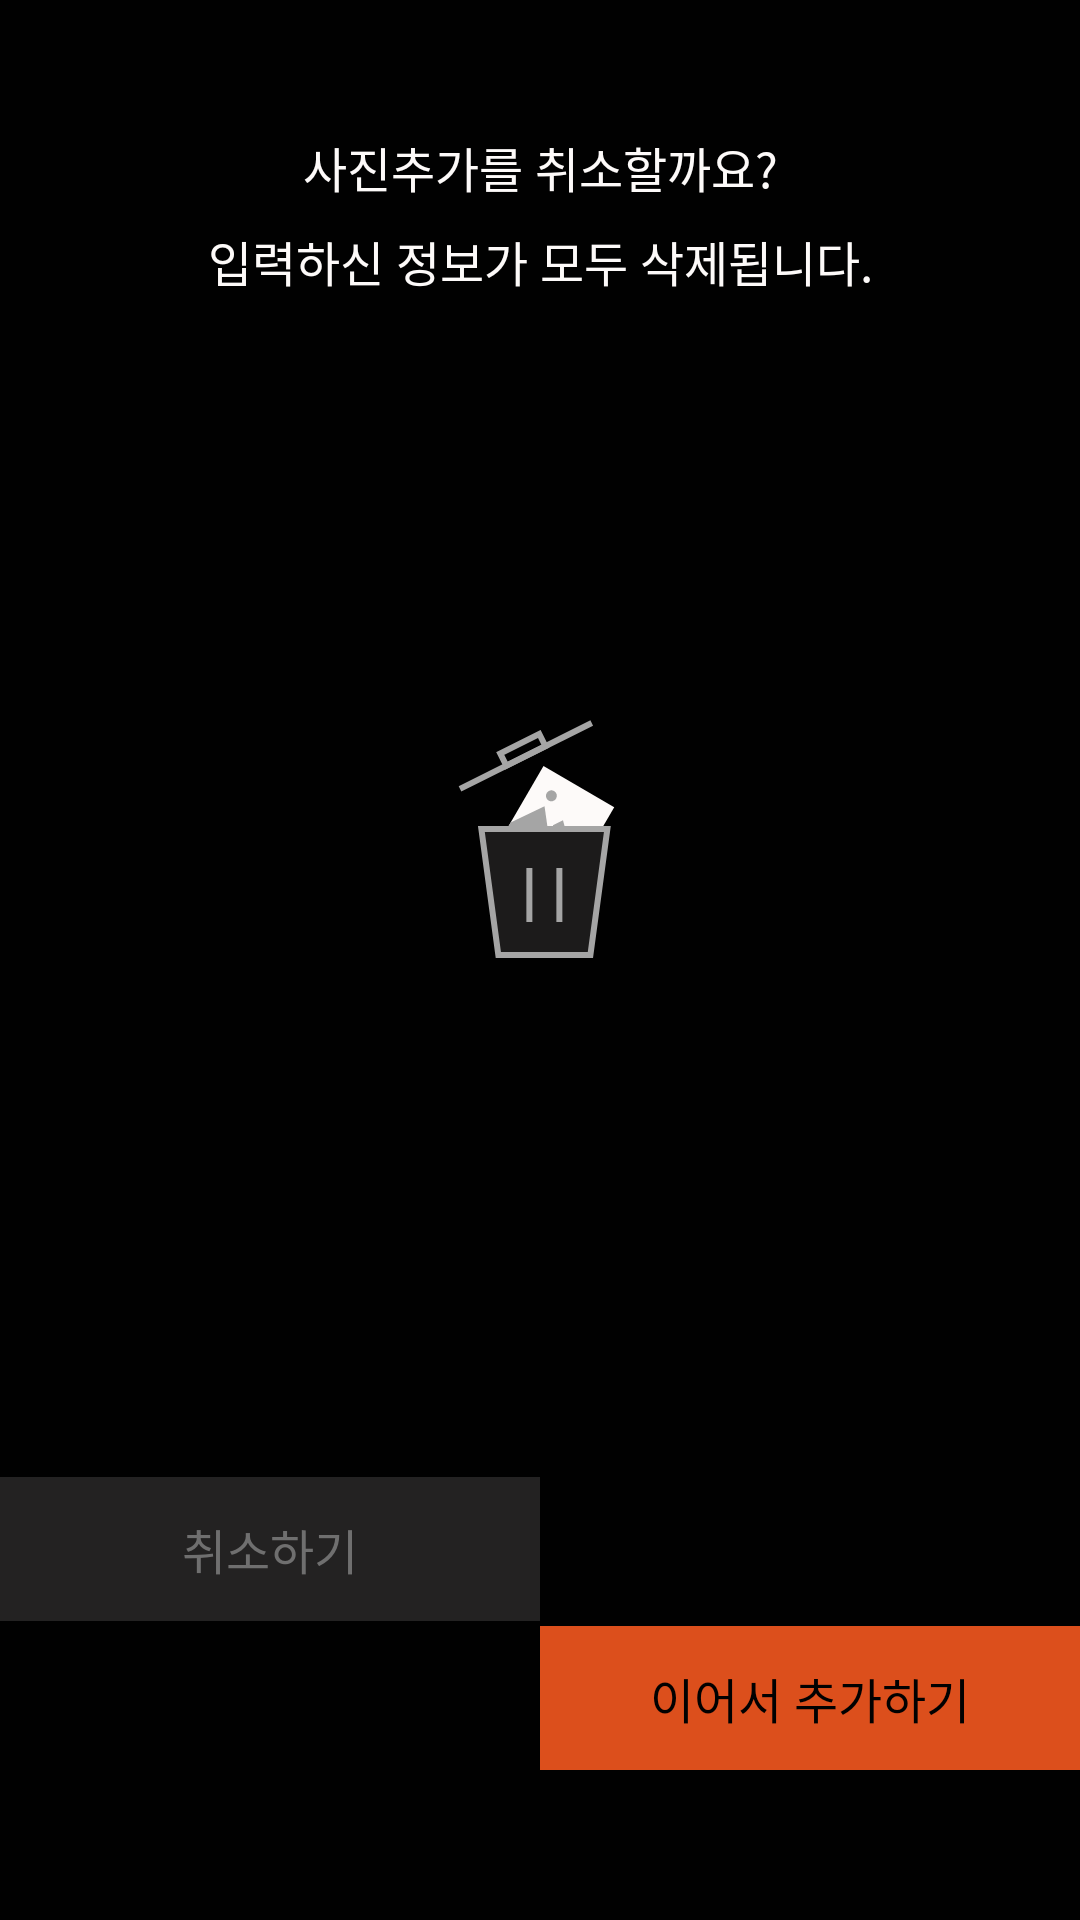

Icons on this 1080x1920 Android screen, each with its box as Rect(x1, y1, x2, y2):
trash: Rect(459, 720, 614, 958)
